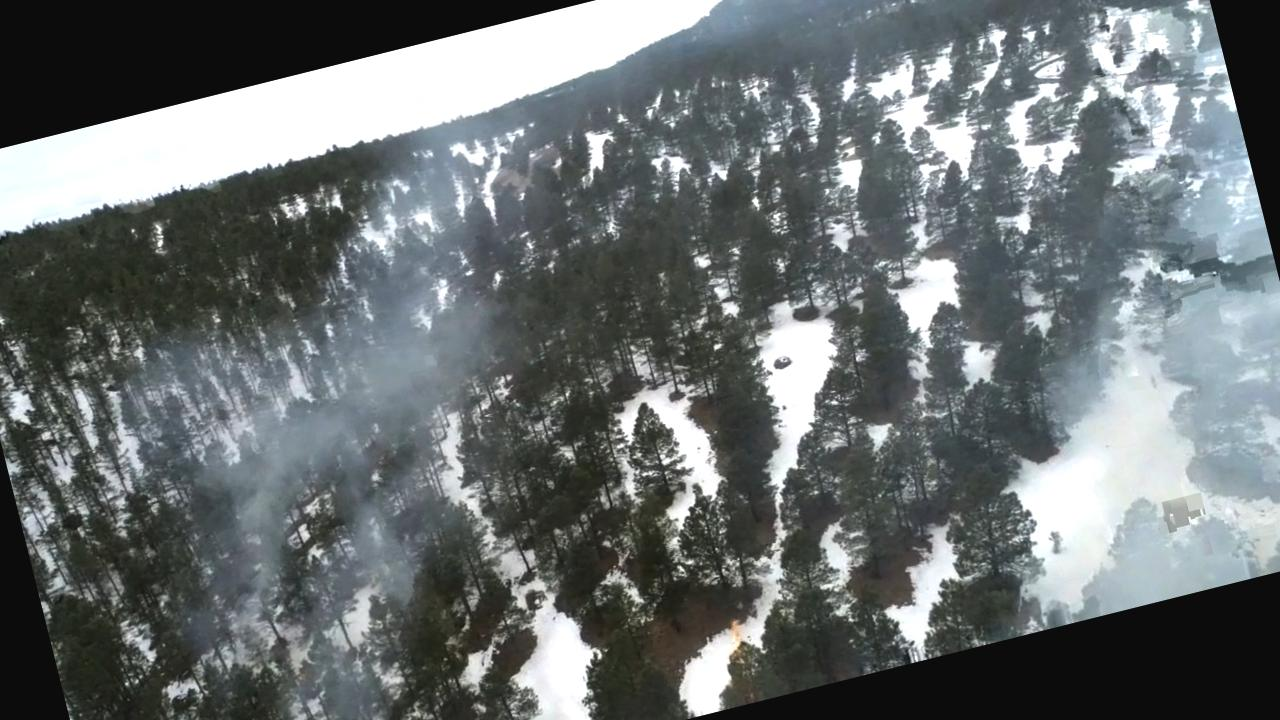smoke: (112, 129, 593, 718)
